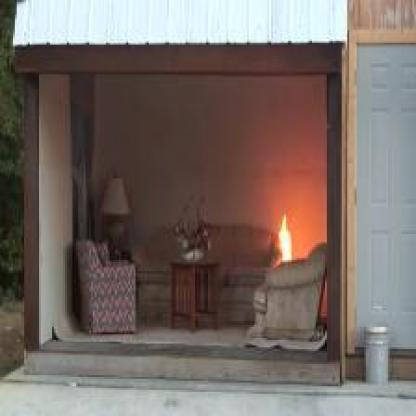fire: (268, 212, 299, 266)
